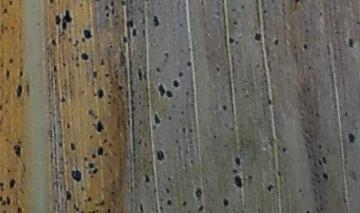tarspot: (62, 8, 73, 30), (232, 173, 245, 190), (70, 168, 83, 184), (11, 143, 24, 158), (151, 111, 162, 128), (117, 50, 128, 67), (154, 149, 167, 162), (82, 27, 94, 41), (14, 83, 25, 98), (151, 14, 162, 28), (128, 79, 136, 98), (95, 119, 104, 135), (232, 154, 243, 167), (86, 108, 99, 119), (252, 31, 263, 43), (79, 52, 91, 63), (124, 18, 137, 28), (135, 66, 143, 82), (194, 186, 203, 200), (346, 37, 355, 50), (319, 171, 330, 181), (54, 13, 61, 28), (246, 172, 253, 187), (346, 132, 356, 142), (172, 79, 182, 89), (120, 34, 130, 44), (264, 183, 275, 192), (58, 94, 67, 105), (157, 82, 164, 96), (166, 88, 174, 100), (69, 140, 77, 152), (228, 34, 235, 47), (273, 37, 282, 47), (221, 197, 230, 207), (219, 103, 228, 113), (302, 41, 310, 52), (321, 155, 329, 166), (143, 173, 151, 184), (96, 146, 104, 157), (65, 189, 73, 200), (97, 88, 104, 100), (49, 37, 58, 46), (184, 59, 194, 67), (4, 68, 10, 81), (130, 105, 136, 118), (8, 177, 15, 188), (165, 174, 173, 183), (91, 167, 100, 175), (89, 151, 97, 160), (16, 205, 25, 213), (184, 88, 192, 97), (186, 45, 194, 54), (138, 203, 145, 213), (5, 195, 12, 205), (91, 70, 98, 80), (303, 127, 310, 137), (52, 63, 58, 74), (73, 36, 79, 47), (137, 136, 143, 147), (265, 98, 273, 106), (164, 186, 172, 194), (17, 69, 25, 77), (64, 121, 72, 129), (316, 158, 323, 167), (280, 146, 289, 153), (2, 6, 9, 15), (72, 202, 79, 211), (341, 111, 351, 117), (131, 27, 137, 37), (99, 57, 105, 67), (316, 143, 323, 151), (177, 71, 185, 78), (7, 1, 15, 8), (163, 50, 171, 57), (104, 71, 111, 79), (73, 61, 80, 69), (214, 65, 221, 73), (188, 158, 195, 166), (260, 8, 268, 15), (306, 153, 313, 161), (306, 64, 314, 71), (79, 88, 86, 96), (99, 199, 106, 207), (173, 138, 180, 146), (118, 1, 127, 7), (237, 4, 246, 10), (57, 141, 66, 147), (166, 199, 173, 206), (234, 40, 241, 47), (231, 18, 238, 25), (86, 195, 93, 202), (117, 84, 124, 91), (187, 127, 194, 134), (276, 170, 283, 177), (106, 99, 113, 106), (90, 121, 97, 128), (88, 161, 94, 169), (105, 207, 113, 213), (104, 11, 110, 19), (102, 137, 108, 145), (105, 93, 113, 99), (67, 35, 72, 44), (83, 155, 88, 164), (112, 95, 117, 104), (198, 204, 204, 211), (155, 66, 161, 73), (103, 5, 110, 11), (113, 72, 119, 79), (61, 61, 67, 68), (222, 143, 229, 149), (243, 92, 249, 99), (109, 190, 116, 196), (110, 180, 117, 186), (231, 6, 237, 13), (190, 101, 196, 108), (170, 103, 177, 109), (74, 55, 80, 62), (129, 98, 135, 105), (183, 148, 190, 154), (355, 19, 360, 27), (303, 208, 311, 213), (181, 127, 186, 135), (303, 28, 311, 33), (87, 209, 97, 213), (143, 140, 148, 148), (138, 118, 143, 126), (1, 200, 7, 206), (47, 1, 56, 5), (109, 1, 115, 7), (229, 126, 235, 132), (297, 187, 303, 193), (92, 92, 98, 98), (167, 115, 173, 121), (178, 22, 184, 28), (231, 168, 238, 173), (8, 57, 13, 64), (211, 134, 218, 139), (223, 122, 228, 129), (108, 142, 113, 149), (88, 135, 95, 140), (94, 202, 99, 209), (179, 47, 184, 54), (170, 26, 177, 31), (78, 2, 83, 8), (108, 43, 113, 49), (180, 109, 185, 115), (70, 56, 75, 62), (181, 200, 185, 207), (4, 137, 9, 142), (293, 1, 299, 5), (1, 103, 4, 110), (1, 194, 2, 202)
